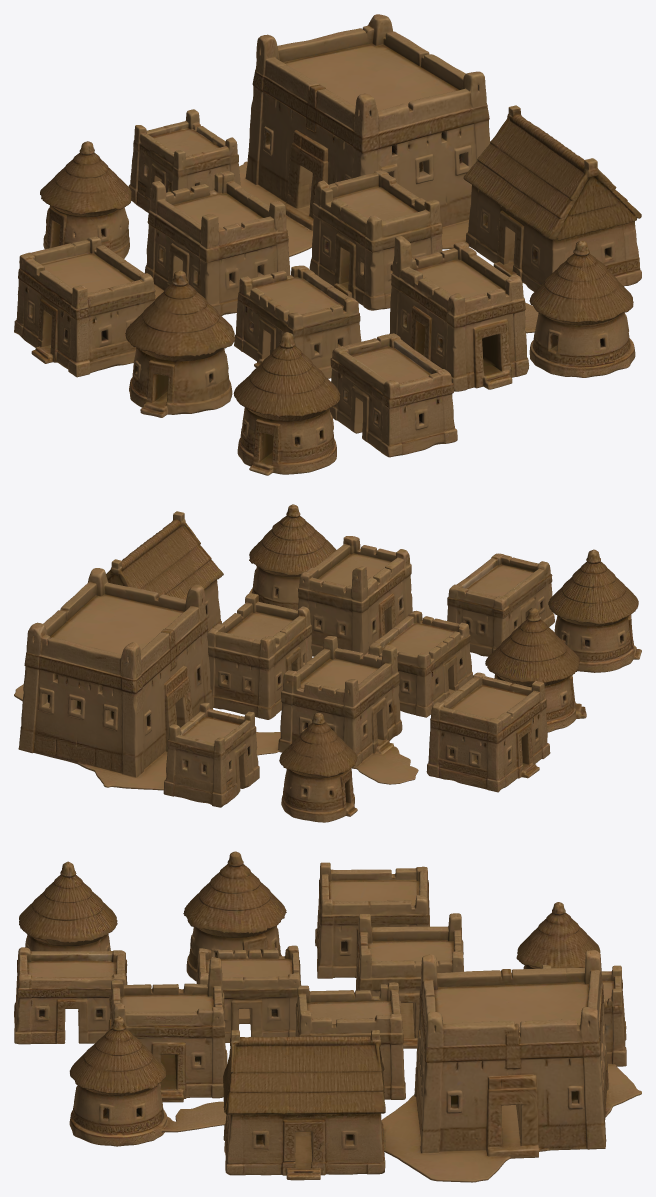
File: Classical Village (West African).fbx
3 renders of one model, top to bottom at view 1: azimuth 30°, elevation 25°; view 2: azimuth 150°, elevation 25°; view 3: azimuth 270°, elevation 25°, orthographic. The views are drawn at different scales.
Parts seen in each view (by area): view 1: tripo_node_b0de9250; view 2: tripo_node_b0de9250; view 3: tripo_node_b0de9250.
Boxes of the visible parts, <box> form: tripo_node_b0de9250: <box>14,14,641,475</box>; tripo_node_b0de9250: <box>14,504,641,822</box>; tripo_node_b0de9250: <box>14,851,641,1182</box>.
Bounding box in the file's own units: 0.9478 × 0.2594 × 1.
